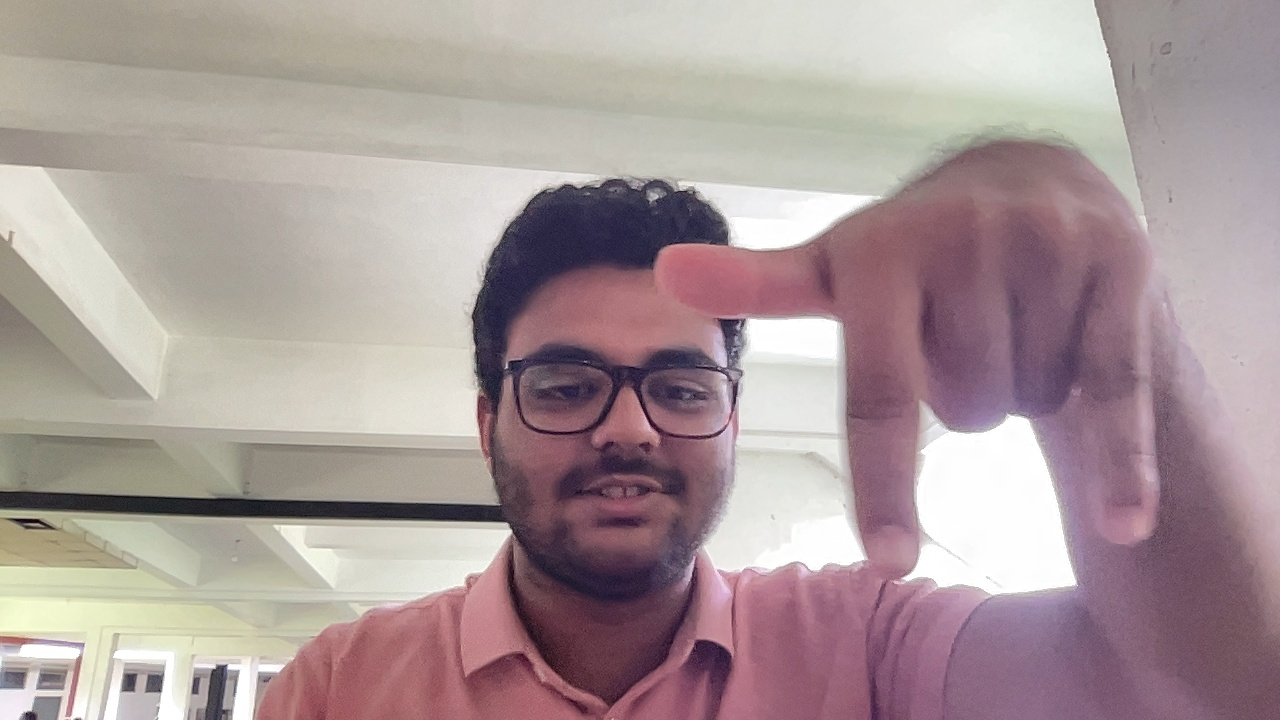yes: (663, 125, 1210, 572)
